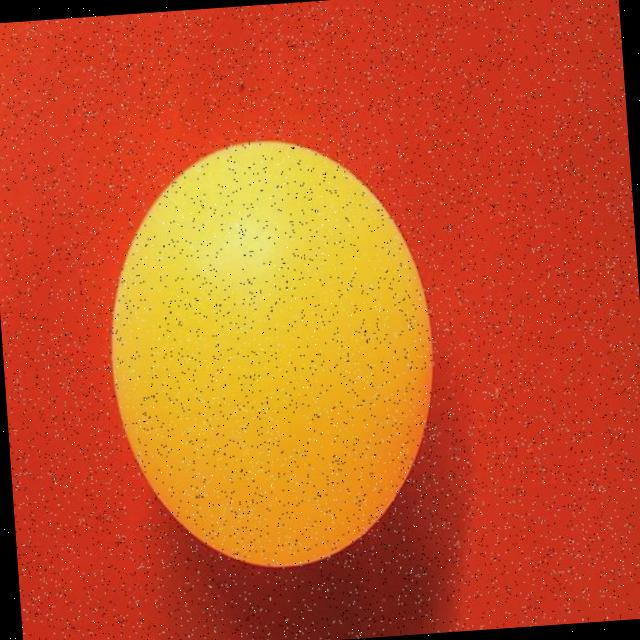ping-pong-ball: (81, 126, 452, 612)
